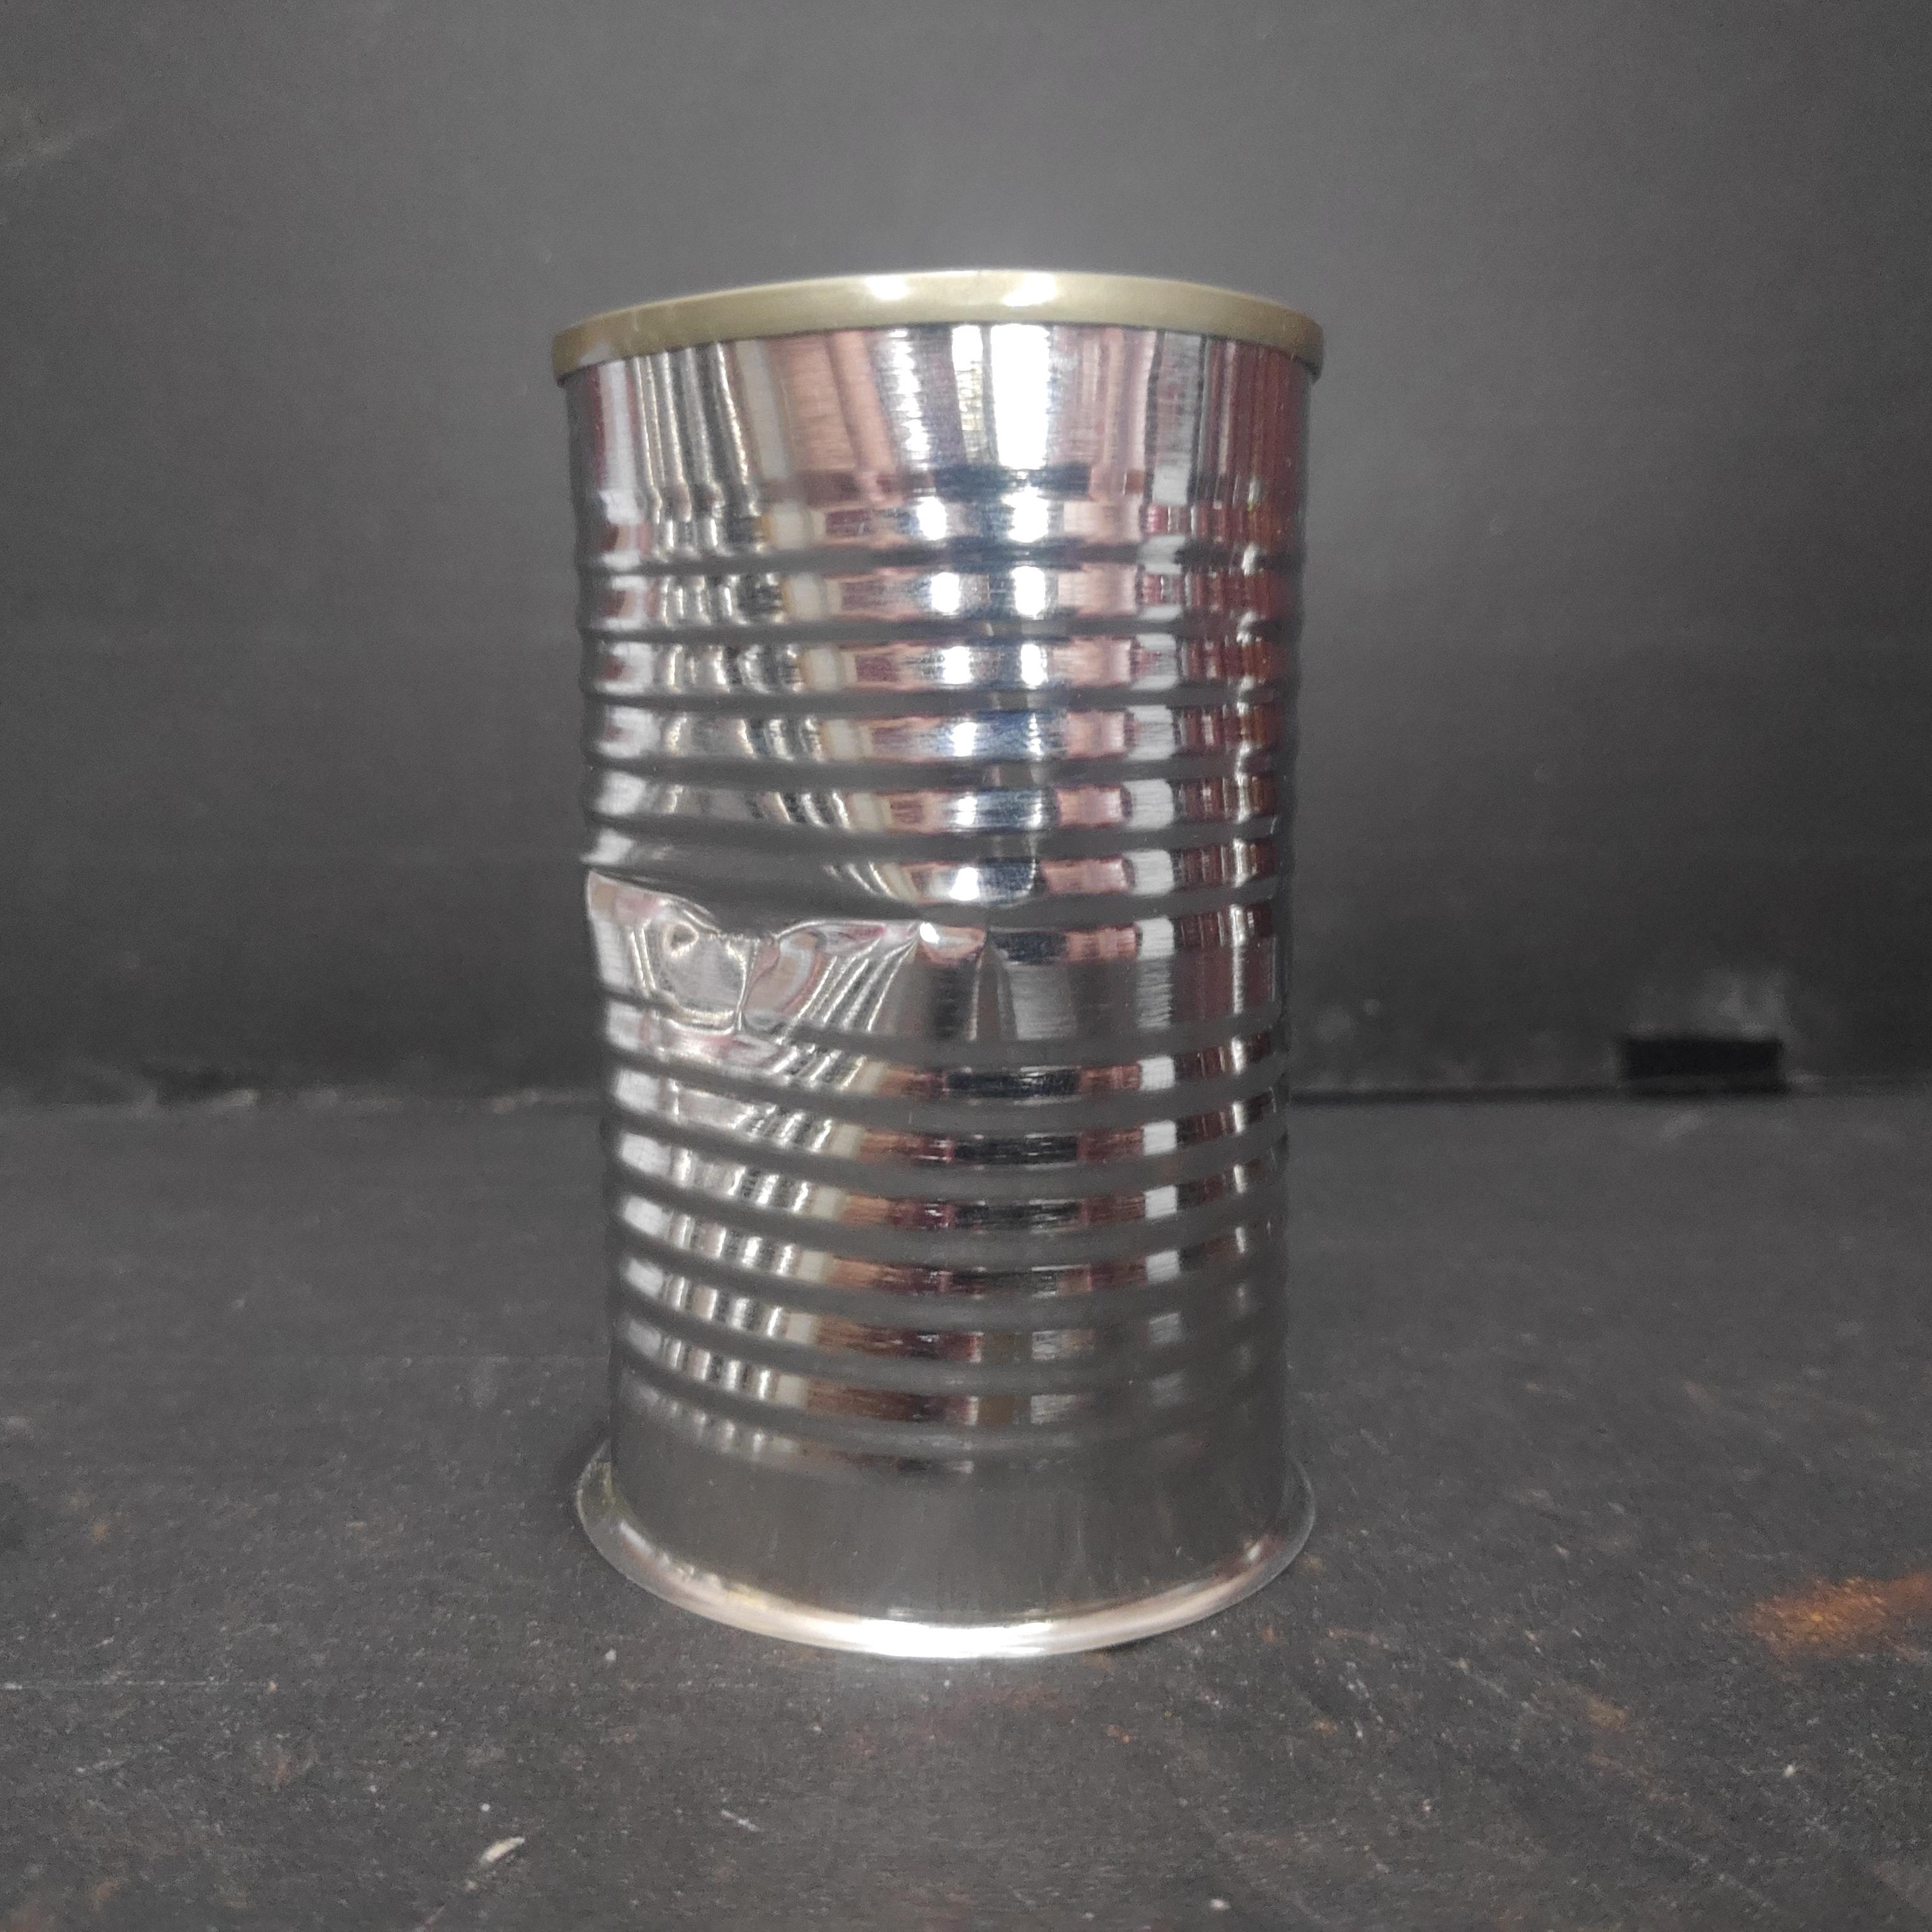Minor Defect: (541, 257, 1338, 1675)
